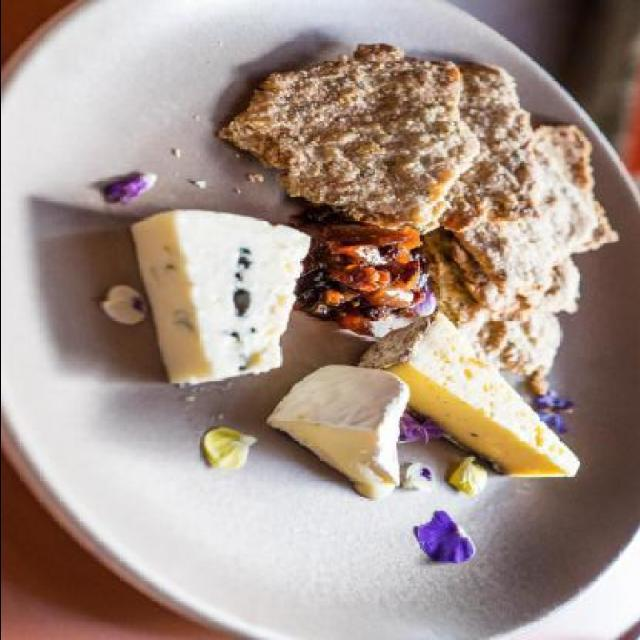Cheese: (354, 308, 582, 477), (124, 208, 310, 390), (256, 361, 412, 499)
